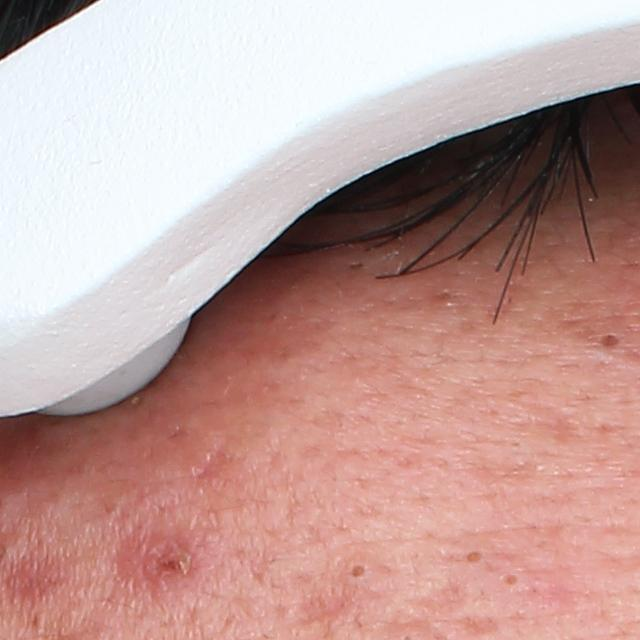atrophic_scar: (113, 500, 186, 604), (299, 579, 361, 637), (402, 574, 479, 618), (196, 441, 226, 486)
comedo: (595, 332, 622, 352)
papule: (145, 548, 195, 589)
